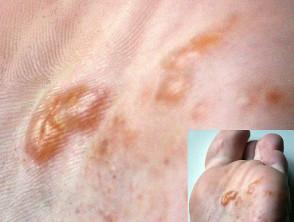Eczema: (70, 79, 116, 128), (44, 84, 82, 136), (16, 130, 67, 167), (174, 33, 213, 74), (13, 110, 73, 136), (142, 41, 182, 78), (262, 81, 294, 116), (157, 75, 194, 104), (104, 161, 136, 194), (71, 194, 108, 220), (197, 29, 228, 58), (89, 141, 118, 170), (98, 200, 132, 221), (109, 115, 134, 142), (219, 9, 249, 31), (187, 100, 212, 123), (75, 169, 110, 185), (141, 206, 174, 222), (232, 92, 259, 110), (219, 187, 242, 208), (122, 185, 147, 204), (156, 191, 176, 214), (245, 179, 262, 197), (264, 185, 279, 202), (157, 152, 172, 169), (231, 210, 250, 222), (219, 136, 231, 153), (251, 214, 273, 222)
